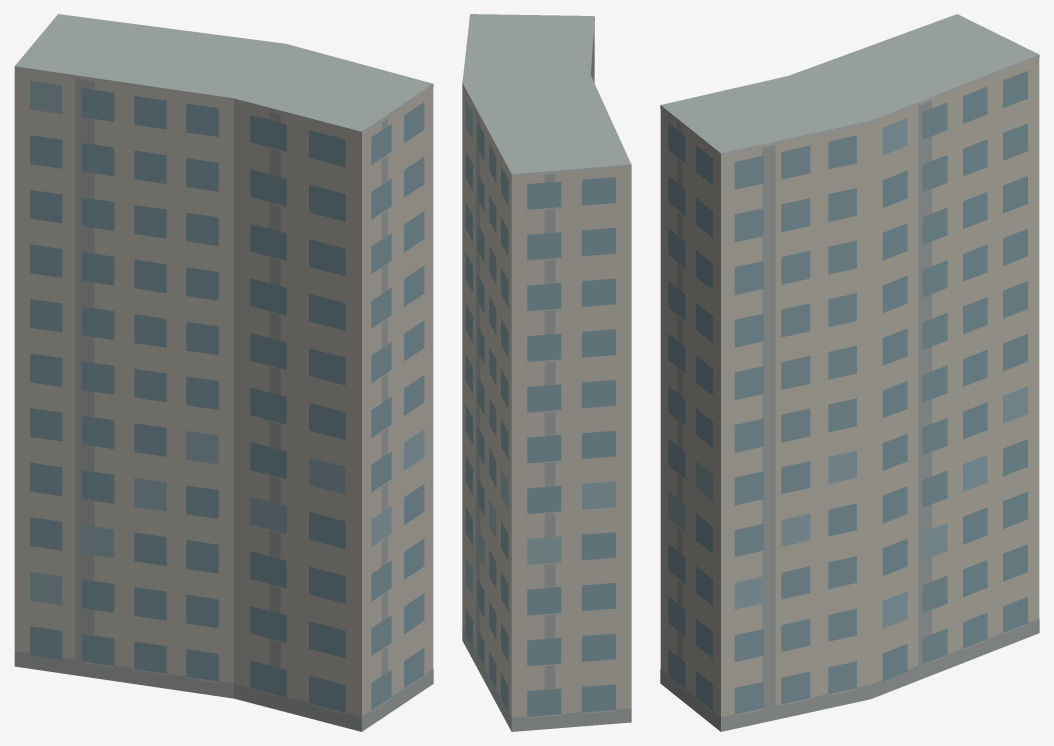
The model's file is residential-1df4b62c-7436-46a9-aeac-4bf66987b712.glb.
The picture shows the model from 3 angles, left to right: view 1: azimuth 30°, elevation 25°; view 2: azimuth 150°, elevation 25°; view 3: azimuth 270°, elevation 25°; orthographic projection. The views are drawn at different scales.
Visible parts, largest first — view 1: residential-1df4b62c-7436-46a9-aeac-4bf66987b712.tmp; view 2: residential-1df4b62c-7436-46a9-aeac-4bf66987b712.tmp; view 3: residential-1df4b62c-7436-46a9-aeac-4bf66987b712.tmp.
Boxes of the visible parts, x1,y1,x2,y2 form: residential-1df4b62c-7436-46a9-aeac-4bf66987b712.tmp: (14,14,433,731); residential-1df4b62c-7436-46a9-aeac-4bf66987b712.tmp: (462,14,631,731); residential-1df4b62c-7436-46a9-aeac-4bf66987b712.tmp: (660,14,1039,731).
Size of the model in its own units: 20.67 by 40 by 23.75.
